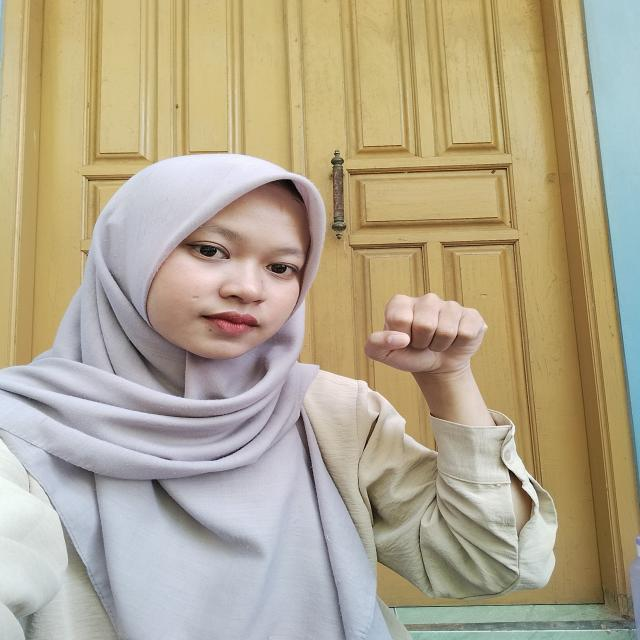baik: (347, 285, 524, 461)
